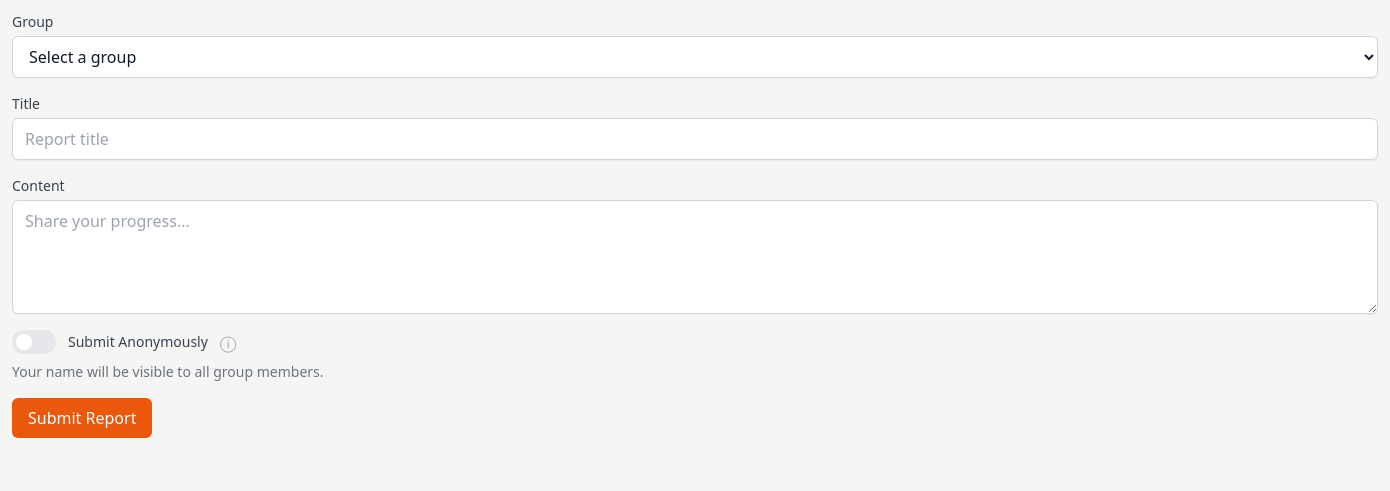
Test case: CreateReportForm › should show error message on failure
Step 1. Select "Fitness Group" in the dropdown labelled "Group" → (695, 57), box [12, 36, 1378, 78]
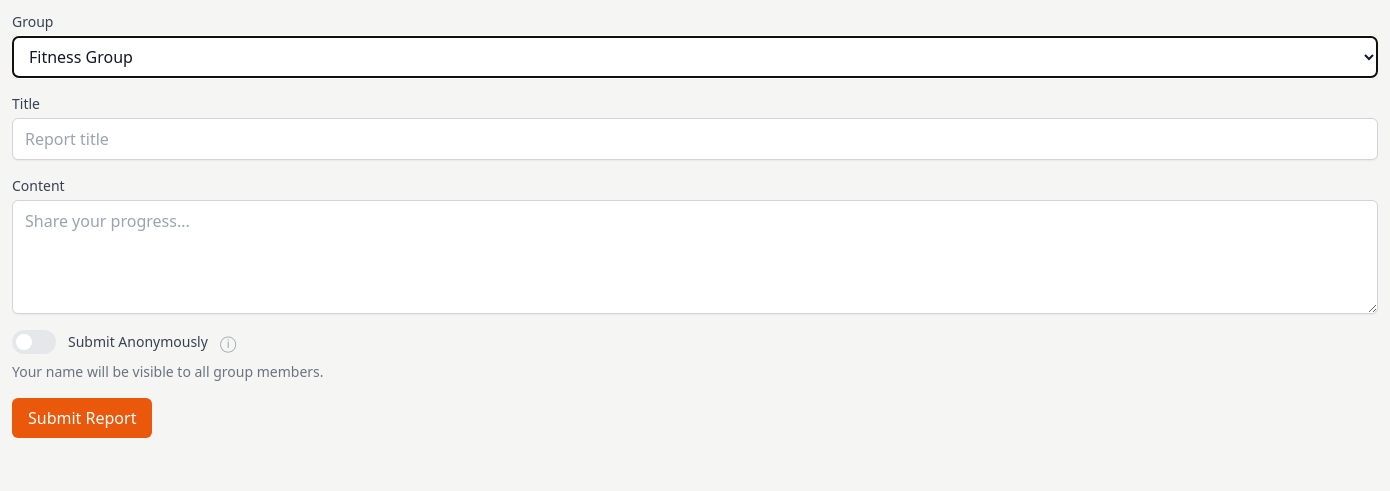
Step 2. Type "Test" into the field labelled "Title" → (695, 139), box [12, 118, 1378, 160]
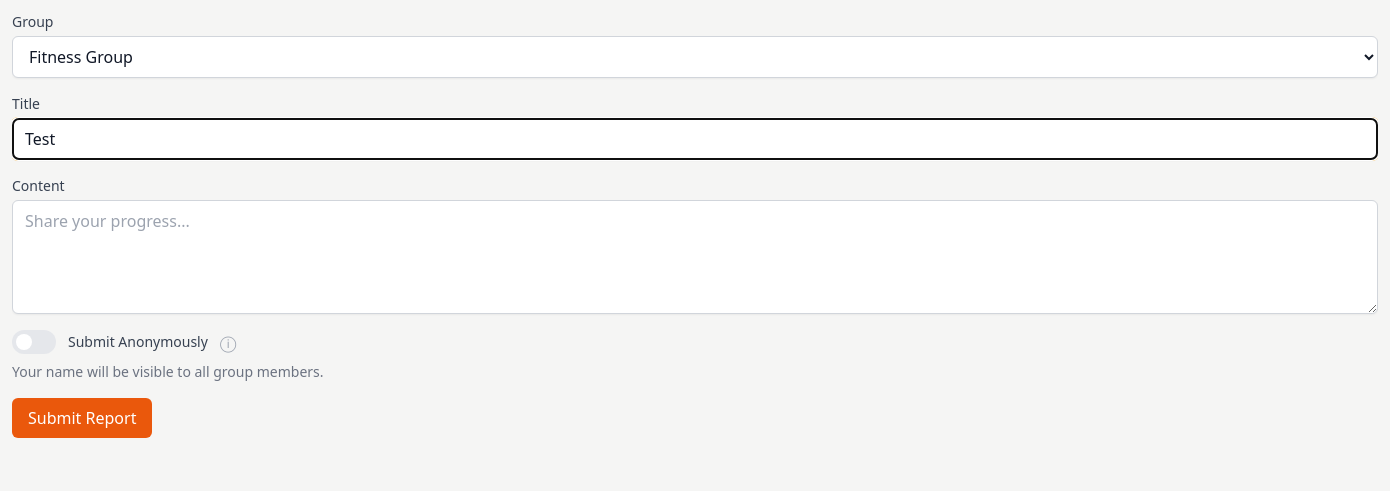
Step 3. Type "Content" into the text box labelled "Content" → (695, 257), box [12, 200, 1378, 314]
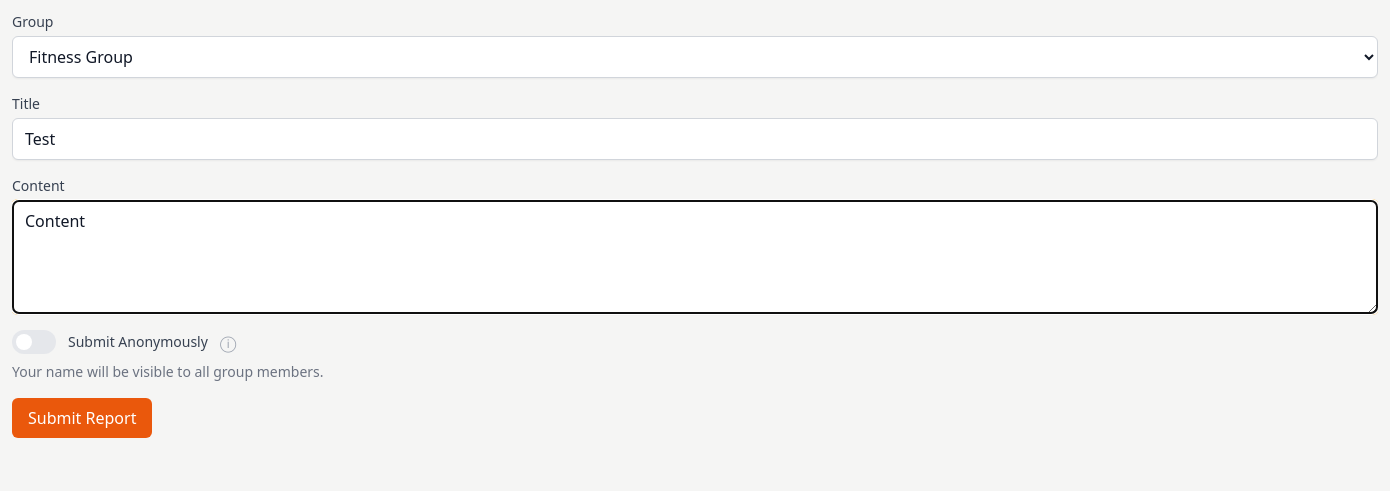
Step 4. Click the button "Submit Report" → (82, 418), box [12, 398, 152, 438]
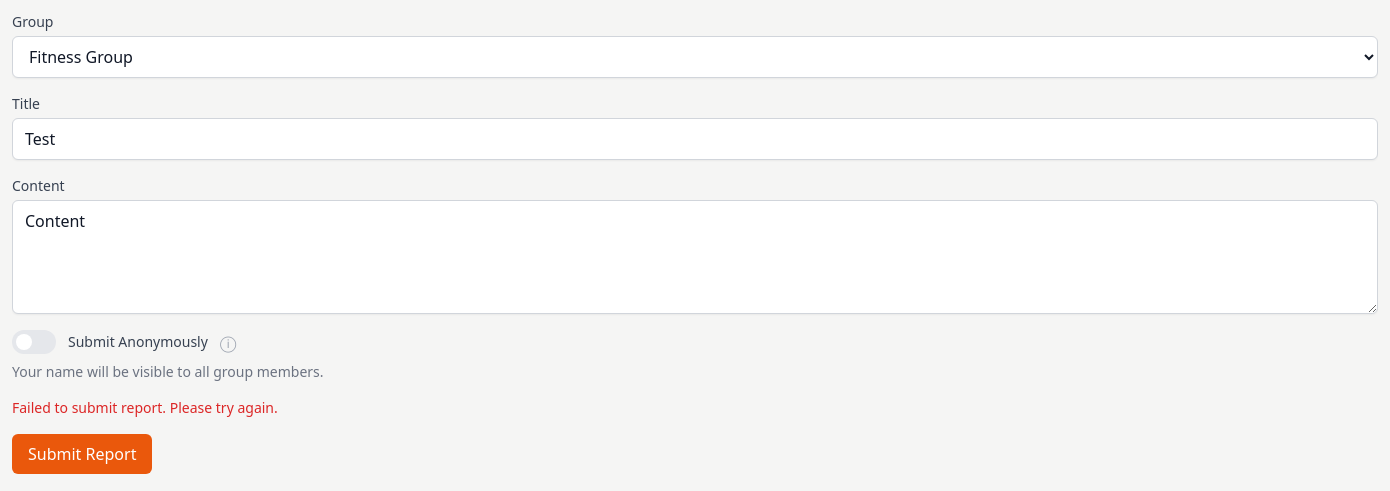
Expected: the text "Failed to submit report. Please try again." is shown, [12, 398, 278, 417]
